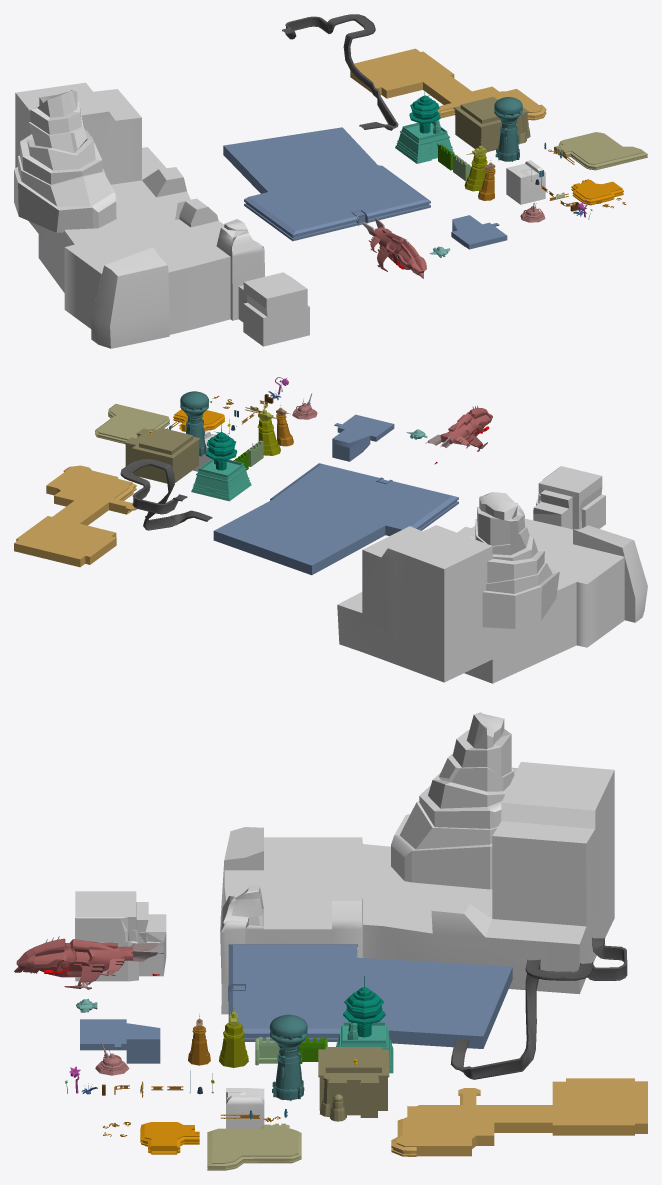
Rendered from asset preparation.fbx.
3 renders of one model, top to bottom at view 1: azimuth 30°, elevation 25°; view 2: azimuth 150°, elevation 25°; view 3: azimuth 270°, elevation 25°, orthographic. The views are drawn at different scales.
Parts seen in each view (by area): view 1: Citadel_rcok_plat, Far_Plat_A, rock_formation, Platform_C, arch_rock_plat, base (×2), magnet_ion_path, Platform_A, main, rock_front, Base, Far_Plat_B (+3 smaller); view 2: Citadel_rcok_plat, Far_Plat_A, rock_formation, Platform_C, base (×2), arch_rock_plat, magnet_ion_path, Far_Plat_B, main, Platform_A, Base, tower2 (+2 smaller); view 3: Citadel_rcok_plat, Far_Plat_A, rock_formation, Platform_C, base (×3), arch_rock_plat, magnet_ion_path, Platform_A, Far_Plat_B, Base, Platform_B, rock_front (+3 smaller).
Boxes of the visible parts, box(x1,y1,x2,y2) form: Citadel_rcok_plat: box(15, 82, 264, 348); Far_Plat_A: box(223, 127, 430, 241); rock_formation: box(14, 90, 116, 232); Platform_C: box(350, 48, 546, 120); arch_rock_plat: box(238, 272, 309, 346); base (×2): box(372, 97, 528, 278); magnet_ion_path: box(282, 14, 398, 130); Platform_A: box(554, 132, 647, 170); main: box(395, 122, 454, 163); rock_front: box(506, 160, 545, 204); Base: box(494, 97, 522, 161); Far_Plat_B: box(451, 215, 507, 249); Citadel_rcok_plat: box(337, 503, 647, 683); Far_Plat_A: box(213, 463, 458, 575); rock_formation: box(469, 492, 559, 628); Platform_C: box(14, 465, 136, 567); base (×2): box(124, 408, 492, 483); arch_rock_plat: box(533, 466, 605, 529); magnet_ion_path: box(120, 458, 212, 530); Far_Plat_B: box(332, 414, 394, 461); main: box(191, 459, 251, 501); Platform_A: box(95, 404, 169, 444); Base: box(180, 391, 208, 456); tower2: box(205, 423, 237, 470); Citadel_rcok_plat: box(220, 762, 614, 1014); Far_Plat_A: box(228, 944, 512, 1048); rock_formation: box(391, 712, 517, 889); Platform_C: box(391, 1078, 647, 1156); base (×3): box(14, 938, 389, 1117); arch_rock_plat: box(75, 891, 166, 981); magnet_ion_path: box(450, 937, 627, 1079); Platform_A: box(207, 1123, 301, 1170); Far_Plat_B: box(80, 1019, 160, 1063); Base: box(269, 1014, 307, 1100); Platform_B: box(140, 1122, 199, 1154); rock_front: box(226, 1088, 264, 1128).
Size of the model in its own units: 119 by 36.92 by 91.96.
